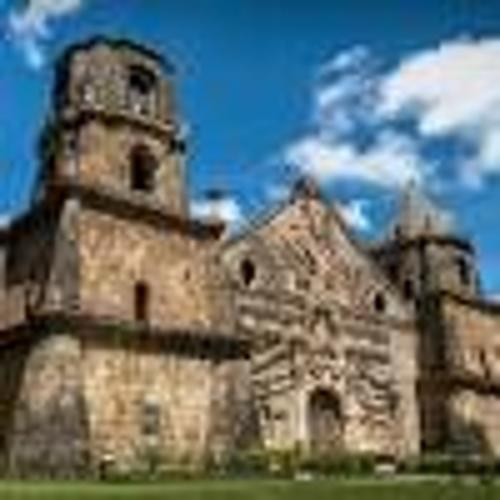Miagao Church: (9, 31, 500, 460)
